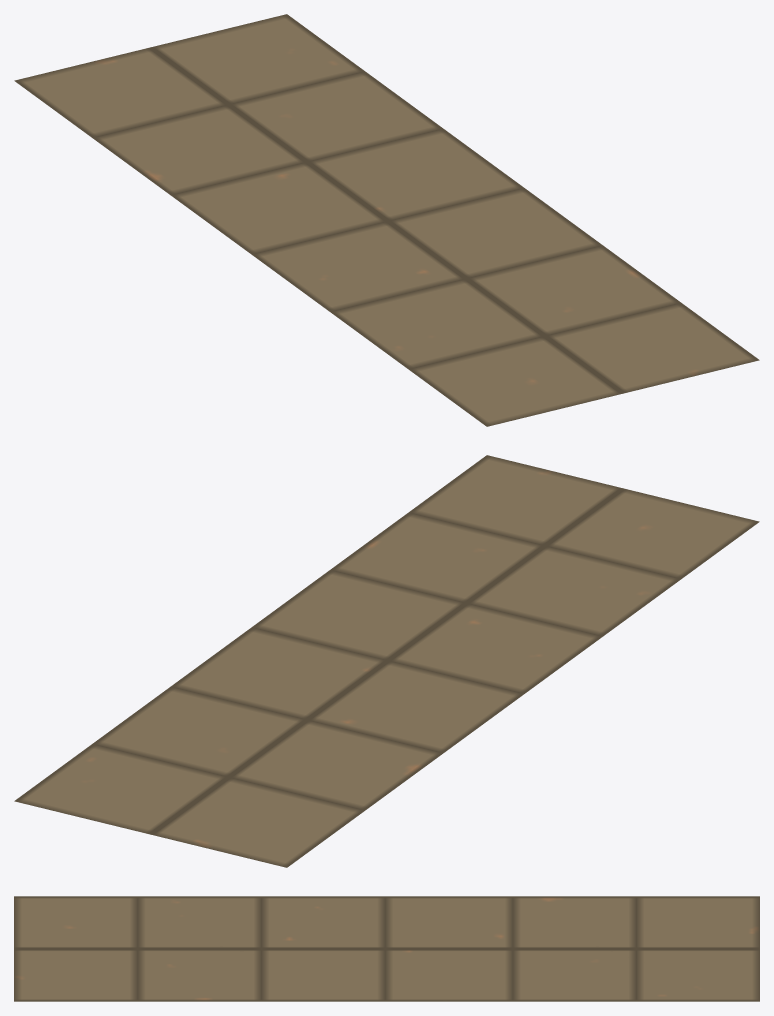
The model's file is SW_ENV_Floor_A_1x3m.fbx.
3 views of the same model, one above another, from view 1: azimuth 30°, elevation 25°; view 2: azimuth 150°, elevation 25°; view 3: azimuth 270°, elevation 25° (orthographic). The views are drawn at different scales.
Parts seen in each view (by area): view 1: SW_ENV_Floor_A_1x3m; view 2: SW_ENV_Floor_A_1x3m; view 3: SW_ENV_Floor_A_1x3m.
Part boxes in pixels (<box>): SW_ENV_Floor_A_1x3m: <box>14,14,759,426</box>; SW_ENV_Floor_A_1x3m: <box>14,455,759,867</box>; SW_ENV_Floor_A_1x3m: <box>14,896,759,1001</box>.
Bounding box in the file's own units: 100 × 9.13e-05 × 300.
